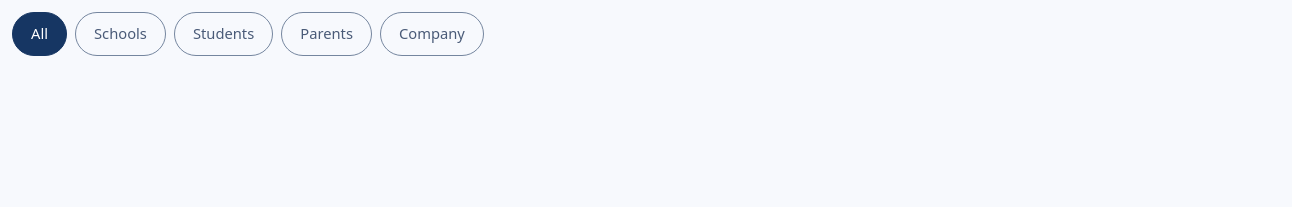
Test: NewsFilters › shows the empty panel for an audience with no stories; Show all resets to All and focuses it
Click the button "Schools" at coordinates (120, 34), box [75,12,166,56]
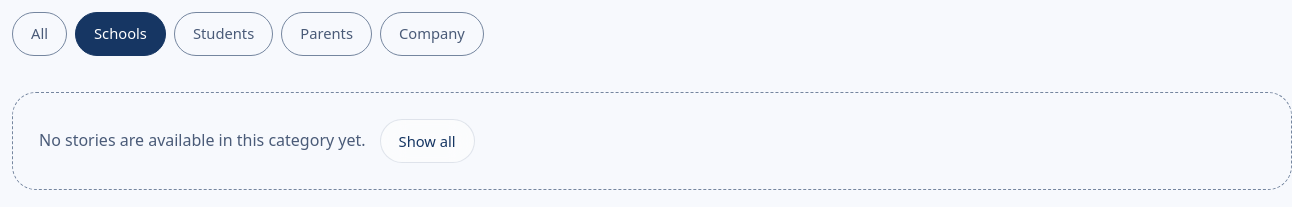
Expected: the text "No stories are available in this category yet." is shown, [39,128,366,154]
Click the button "Show all" at coordinates (427, 141), box [380,119,475,163]
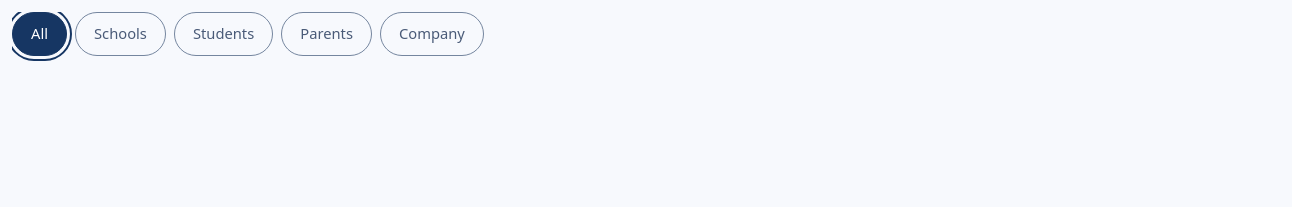
Expected: the text "No stories are available in this category yet." is gone
